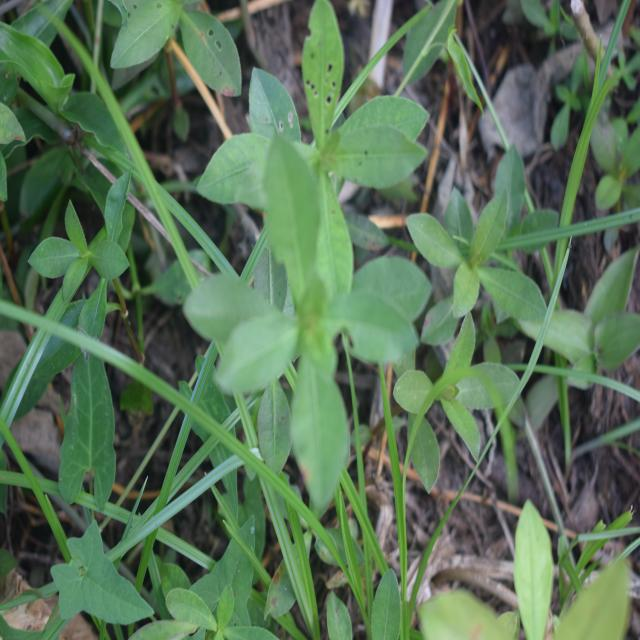Alligatorweed: (224, 3, 414, 274), (399, 182, 560, 362), (402, 317, 532, 486), (39, 174, 150, 334)
